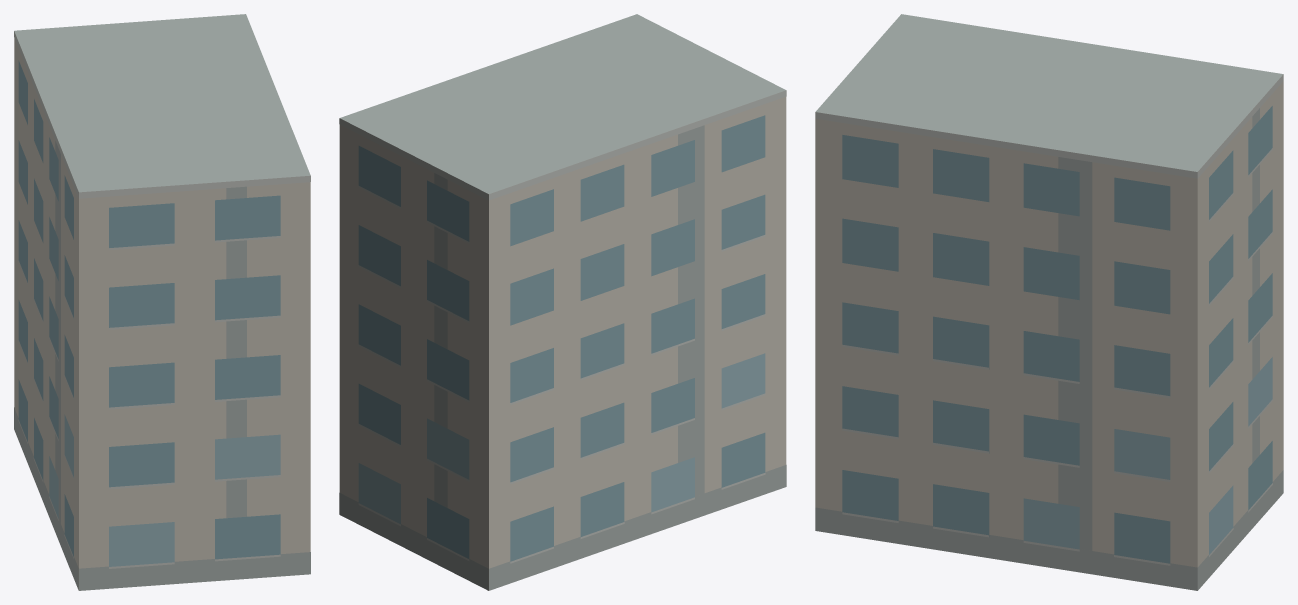
The model's file is residential-f04fbb64-37d1-4b13-a338-55a14d75c9cb.glb.
3 views of the same model, side by side, from view 1: azimuth 30°, elevation 25°; view 2: azimuth 150°, elevation 25°; view 3: azimuth 270°, elevation 25° (orthographic). The views are drawn at different scales.
Visible parts, largest first — view 1: residential-f04fbb64-37d1-4b13-a338-55a14d75c9cb.tmp; view 2: residential-f04fbb64-37d1-4b13-a338-55a14d75c9cb.tmp; view 3: residential-f04fbb64-37d1-4b13-a338-55a14d75c9cb.tmp.
Part boxes in pixels (x1,y1,x2,y2): residential-f04fbb64-37d1-4b13-a338-55a14d75c9cb.tmp: (14,14,310,590); residential-f04fbb64-37d1-4b13-a338-55a14d75c9cb.tmp: (339,14,786,590); residential-f04fbb64-37d1-4b13-a338-55a14d75c9cb.tmp: (815,14,1283,590).
Size of the model in its own units: 12.35 by 15.25 by 15.46.
